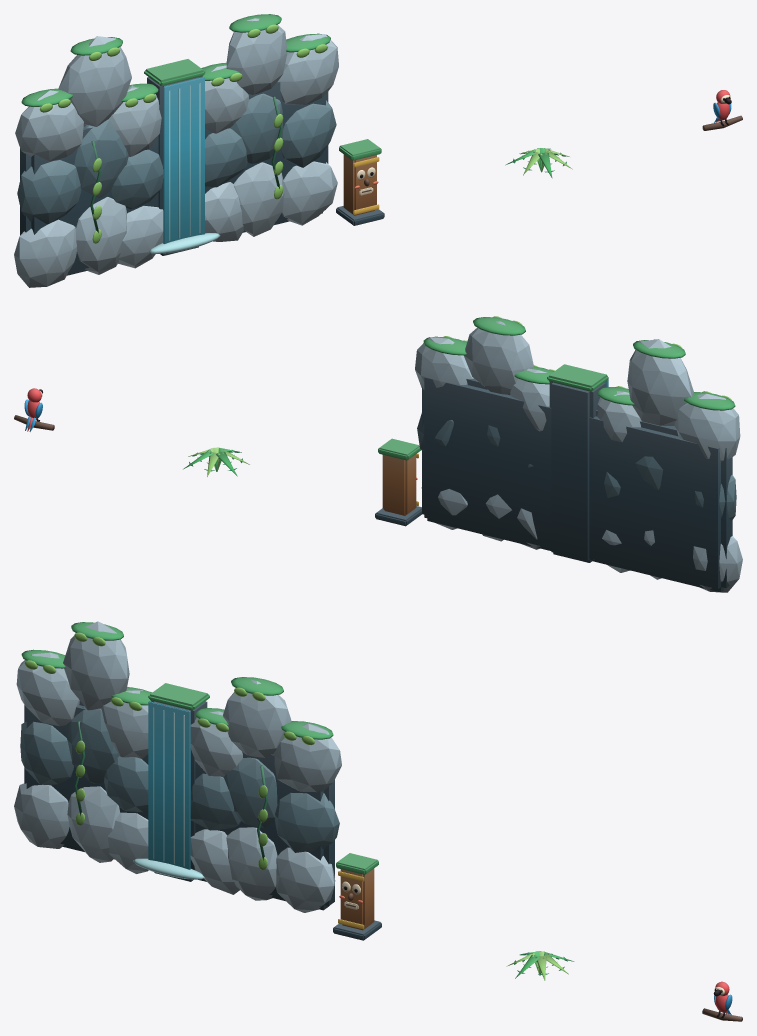
Rendered from Jungle.fbx.
The picture shows the model from 3 angles, top to bottom: view 1: azimuth 30°, elevation 25°; view 2: azimuth 150°, elevation 25°; view 3: azimuth 330°, elevation 25°; orthographic projection.
Parts seen in each view (by area): view 1: Jungle_TempleWaterfall, Jungle_FriendlyTotem, Jungle_TropicalMacaw, Jungle_LeafyFern; view 2: Jungle_TempleWaterfall, Jungle_FriendlyTotem, Jungle_TropicalMacaw, Jungle_LeafyFern; view 3: Jungle_TempleWaterfall, Jungle_FriendlyTotem, Jungle_TropicalMacaw, Jungle_LeafyFern.
Part boxes in pixels (<box>): Jungle_TempleWaterfall: <box>14,14,338,287</box>; Jungle_FriendlyTotem: <box>336,139,384,225</box>; Jungle_TropicalMacaw: <box>702,90,742,130</box>; Jungle_LeafyFern: <box>505,148,572,178</box>; Jungle_TempleWaterfall: <box>415,316,742,592</box>; Jungle_FriendlyTotem: <box>375,438,421,526</box>; Jungle_TropicalMacaw: <box>14,388,54,431</box>; Jungle_LeafyFern: <box>183,447,249,476</box>; Jungle_TempleWaterfall: <box>14,621,341,912</box>; Jungle_FriendlyTotem: <box>333,853,381,940</box>; Jungle_TropicalMacaw: <box>702,981,742,1021</box>; Jungle_LeafyFern: <box>506,951,574,980</box>.
Size of the model in its own units: 95.64 by 30.57 by 7.82.
1 material, 1 textured.
